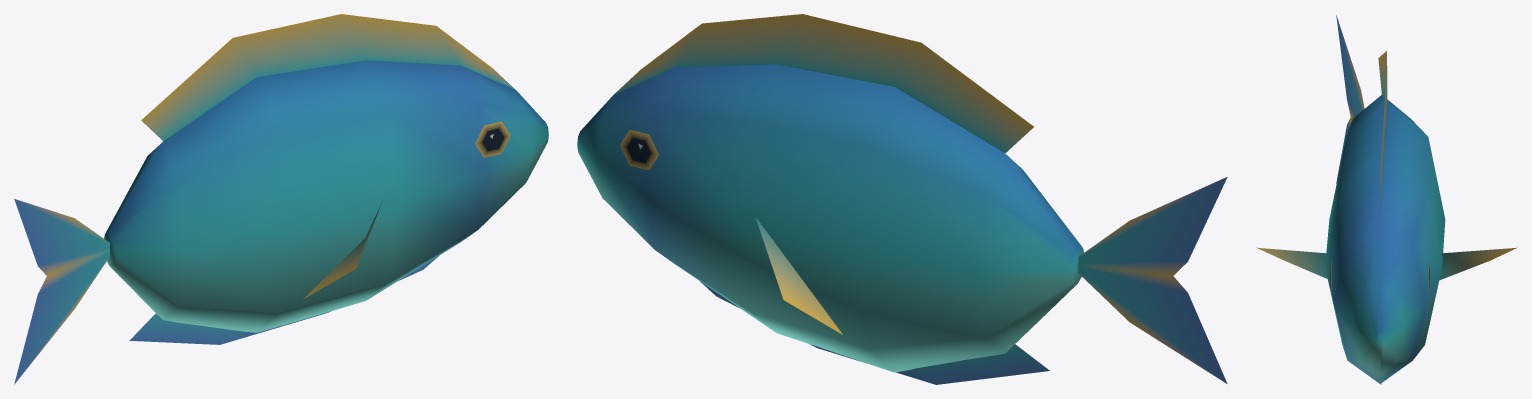
File: fish-prism-tang.glb
3 views of the same model, side by side, from view 1: azimuth 30°, elevation 25°; view 2: azimuth 150°, elevation 25°; view 3: azimuth 270°, elevation 25° (orthographic). The views are drawn at different scales.
Parts seen in each view (by area): view 1: fish-prism-tang.002; view 2: fish-prism-tang.002; view 3: fish-prism-tang.002.
Boxes of the visible parts, <box> form: fish-prism-tang.002: <box>14,14,548,384</box>; fish-prism-tang.002: <box>577,14,1227,384</box>; fish-prism-tang.002: <box>1256,15,1517,384</box>.
Bounding box in the file's own units: 1.5 × 0.7828 × 0.67.
